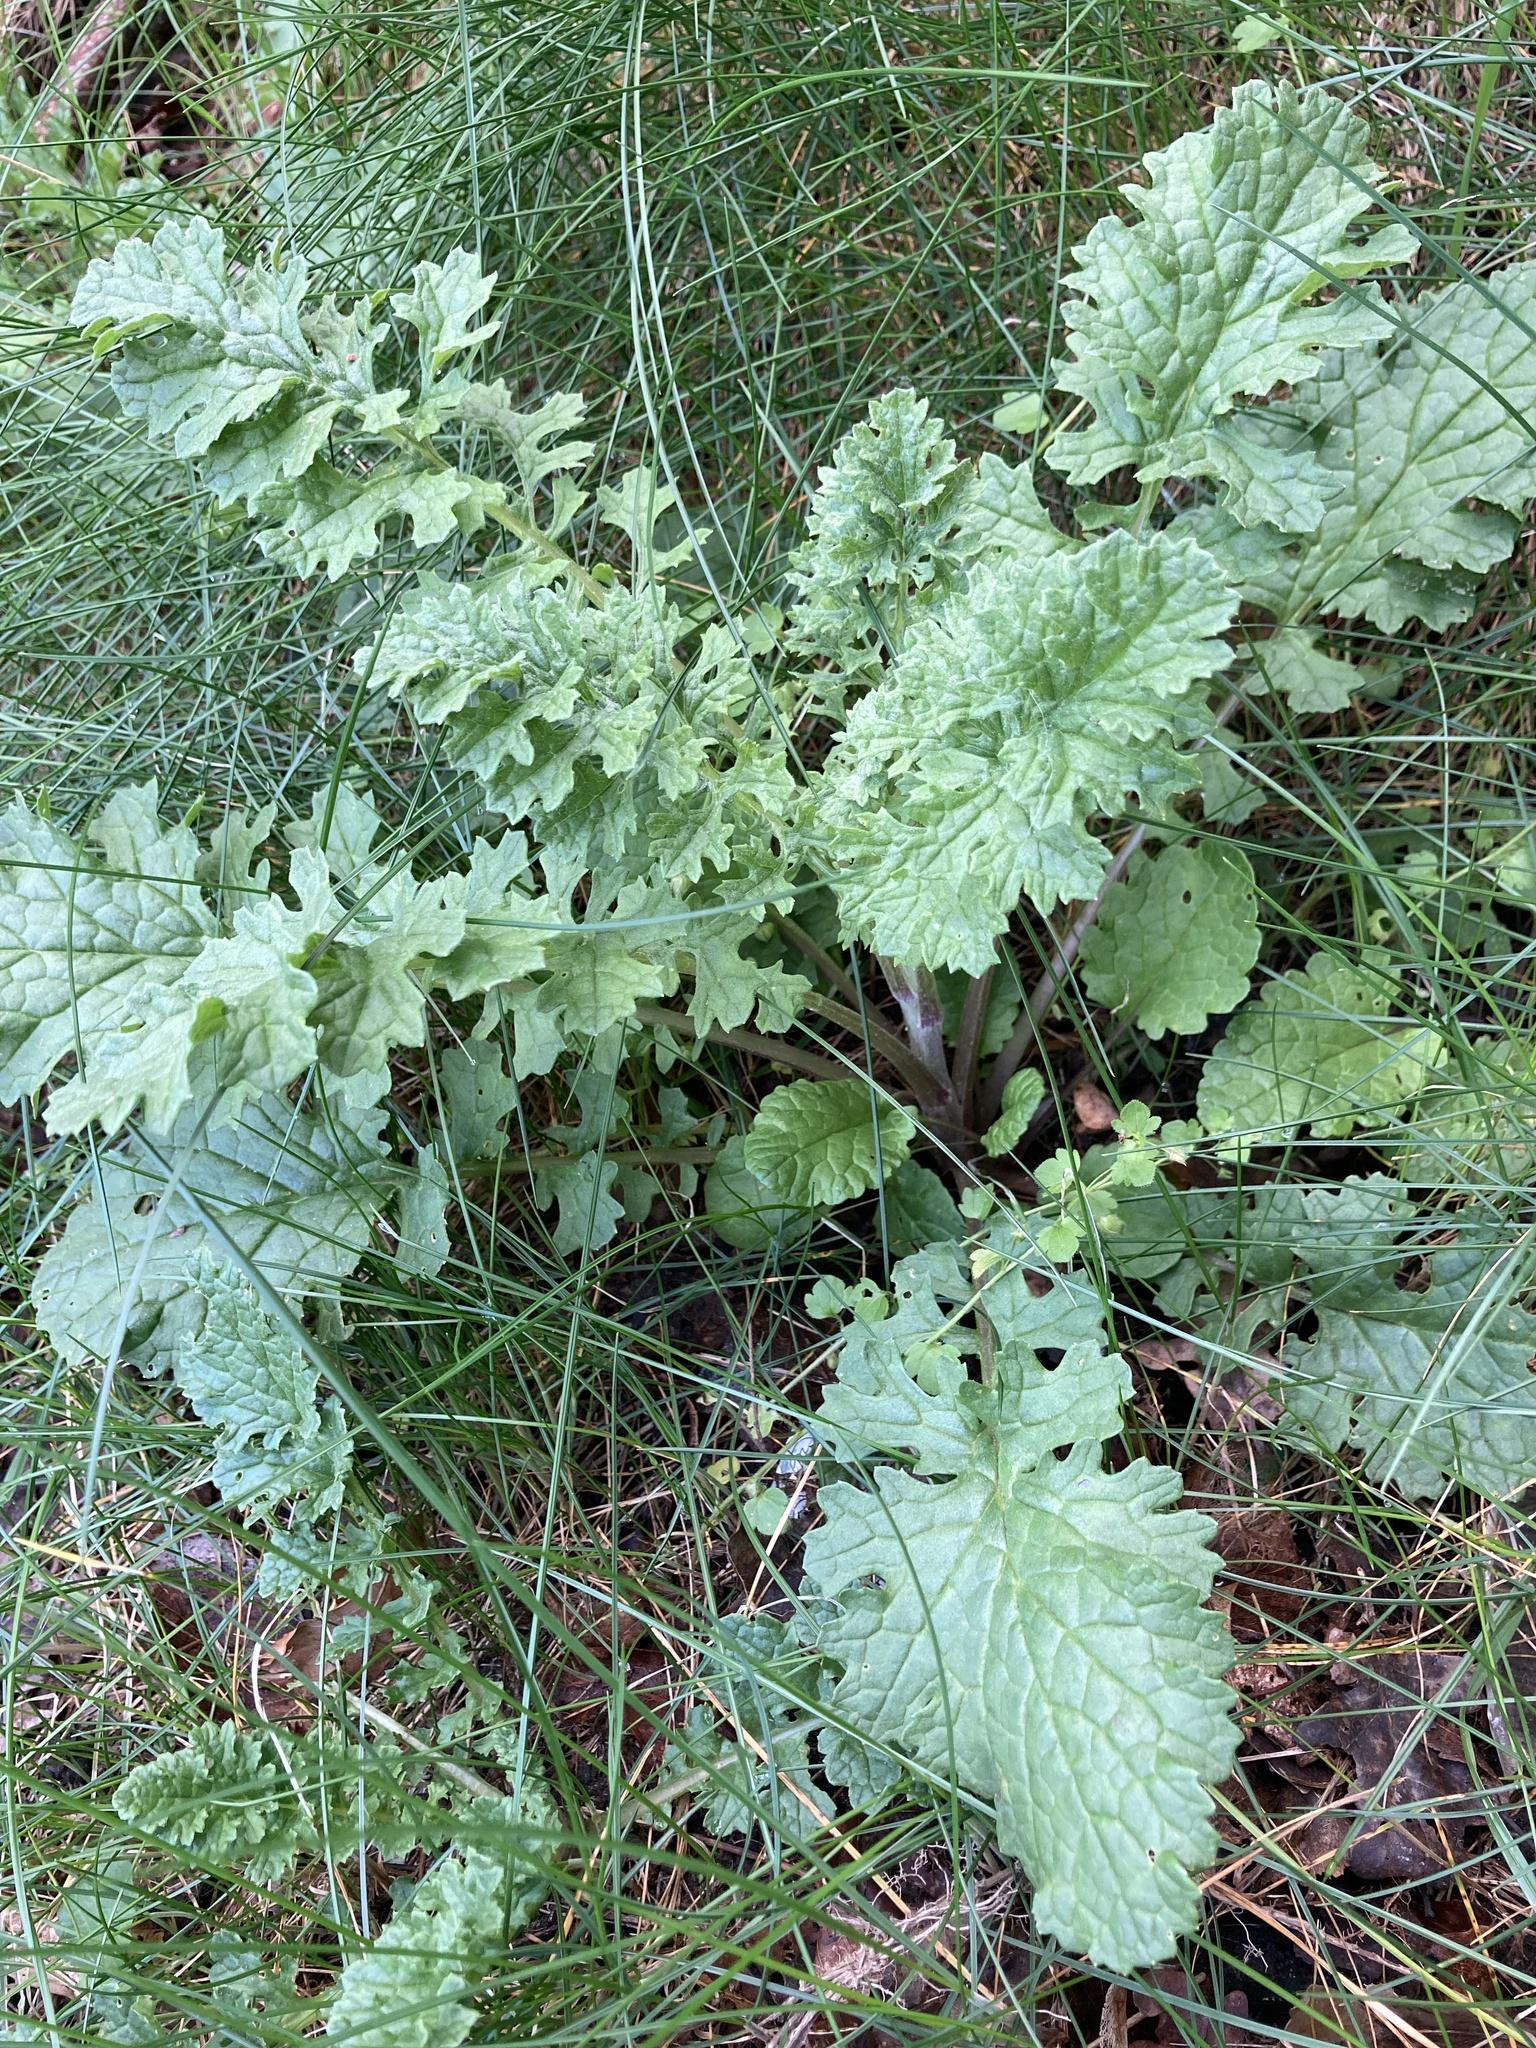Jacobaea vulgaris: (3, 73, 1536, 1987), (0, 1250, 626, 2048)
